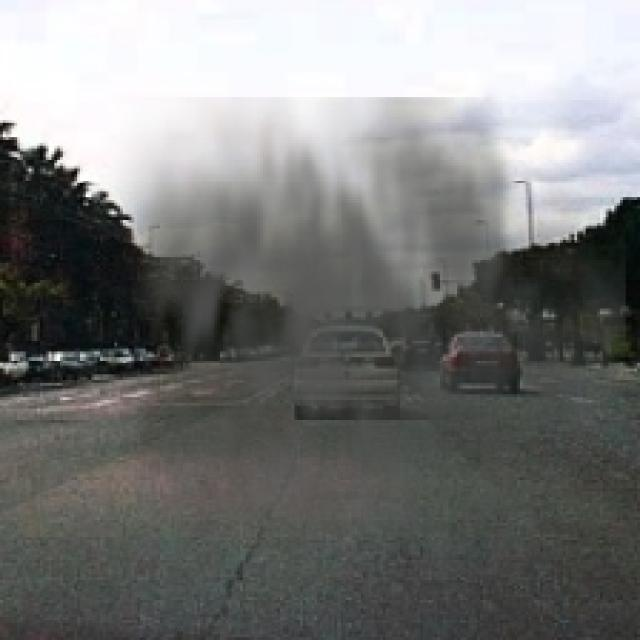smoke: (97, 97, 626, 634)
